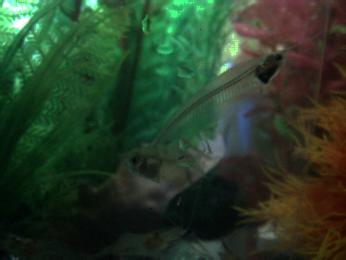X-ray fish: (118, 145, 198, 186)
glassfish: (149, 50, 290, 145)
siberian prawn: (92, 221, 191, 260)
